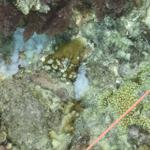alive: (4, 1, 147, 148)
